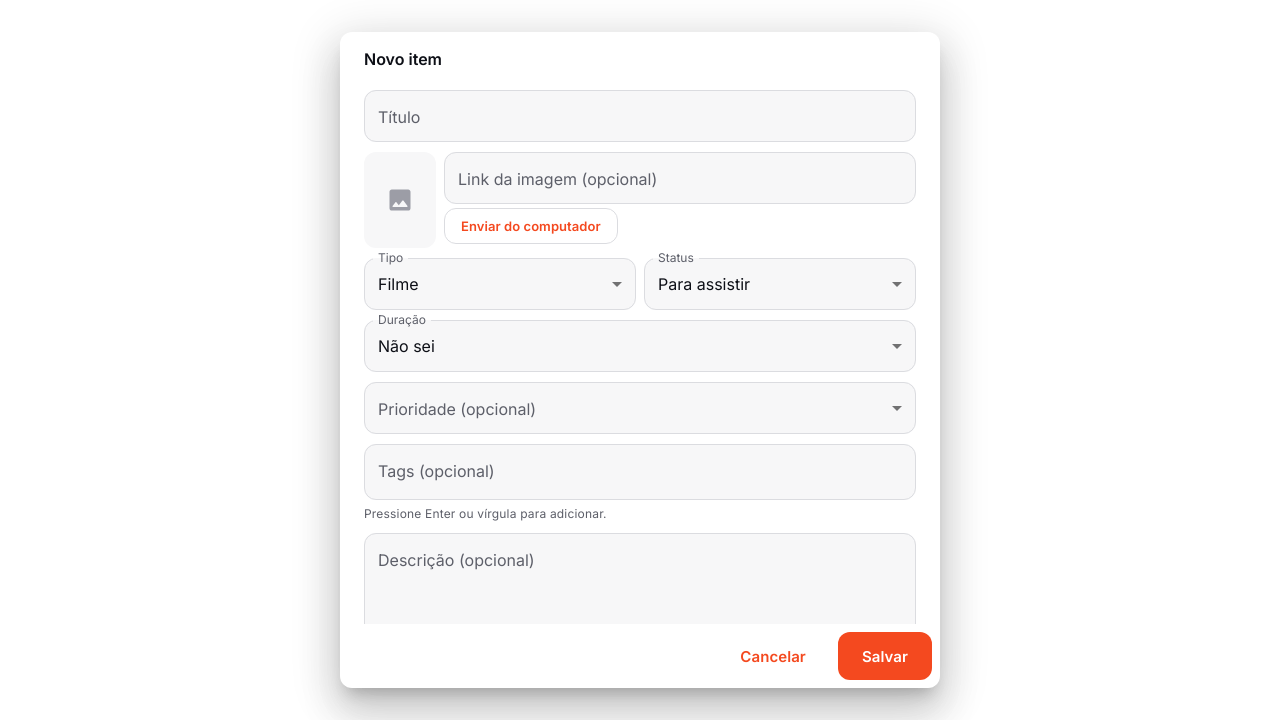
Test: LeisureItemDialog › shows category/address/city fields only for a place
This screenshot has width=1280, height=720.
Click the dropdown named "Tipo" at (398, 284), box [378, 274, 418, 294]
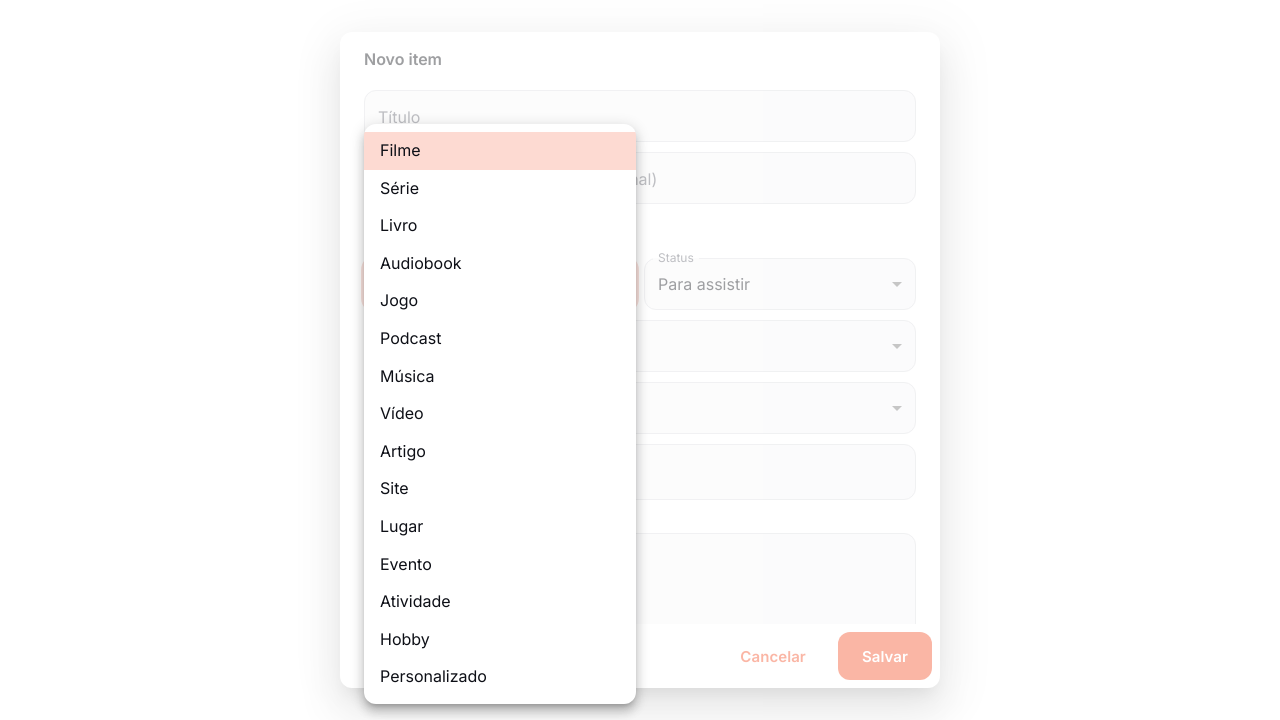
Click the option "Lugar" at (402, 526), box [380, 516, 423, 536]
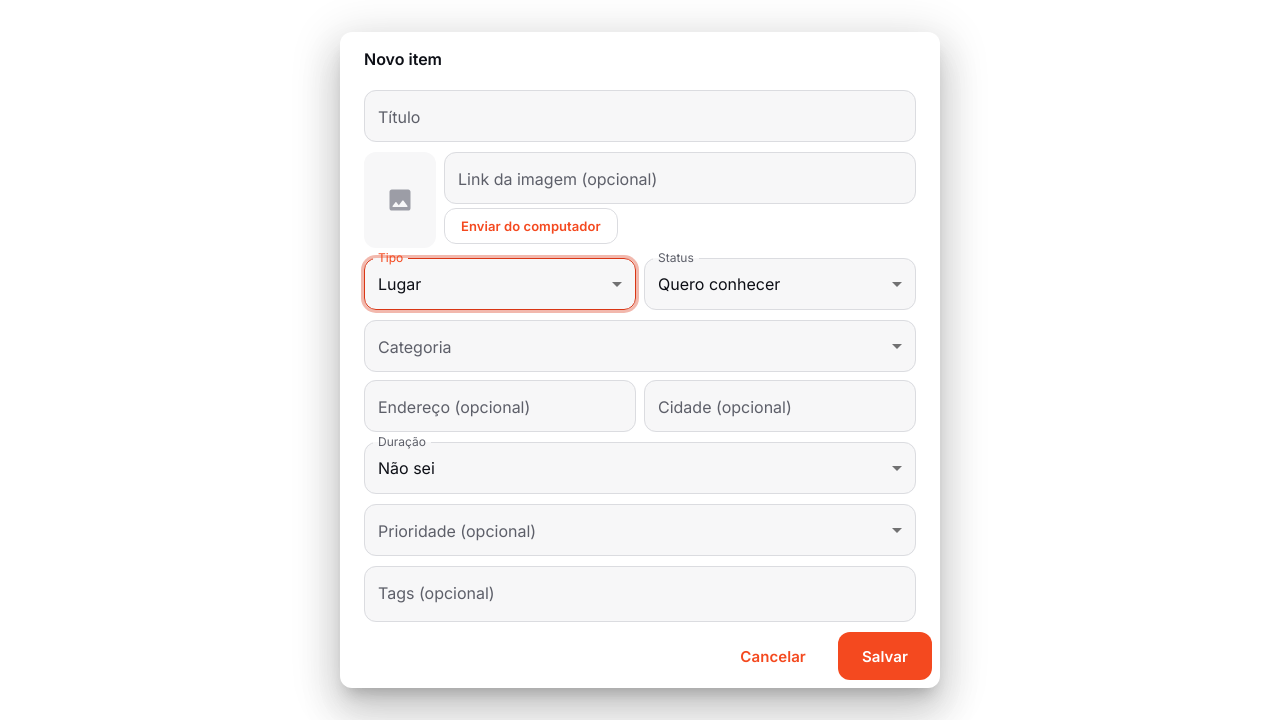
Check: the dropdown named "Categoria" next to "Categoria" is shown, box [364, 321, 916, 372]
Check: the field labelled "Endereço (opcional)" is shown, box [364, 381, 636, 432]
